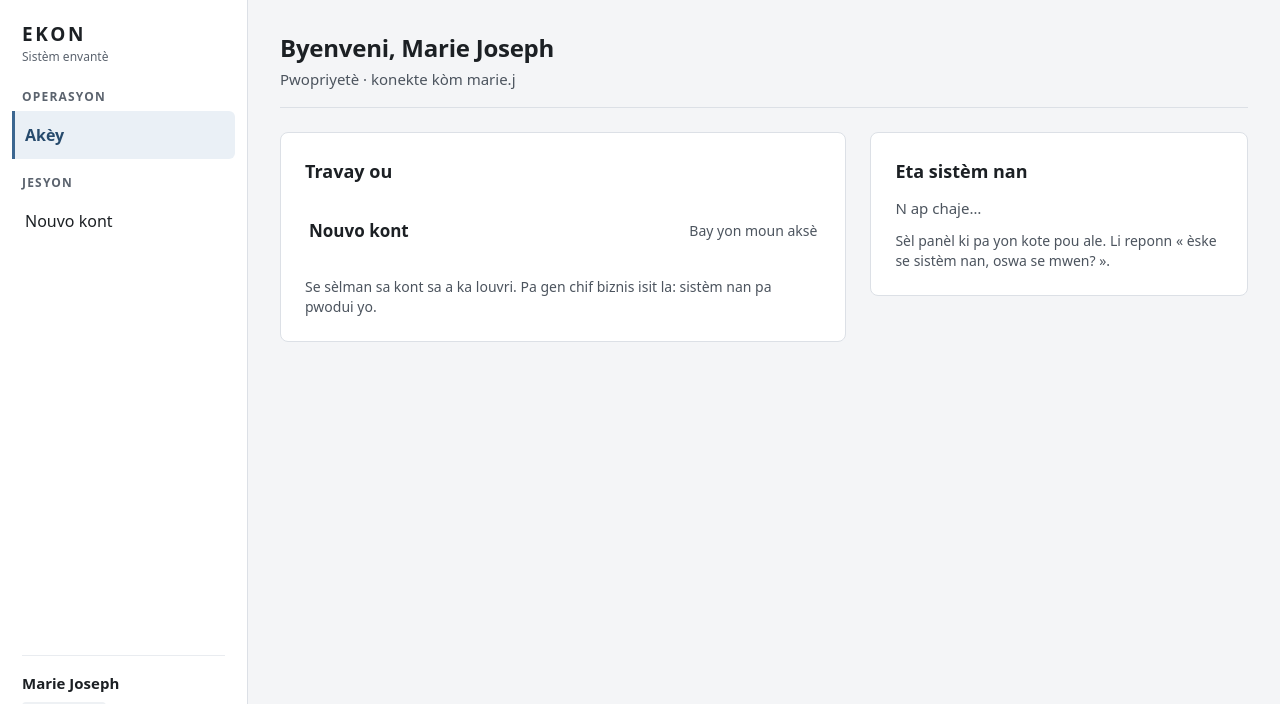
Test: the form › describes each field with the rule that applies to it
Check: the text "Marie Joseph" is shown, box [22,672,119,692]
Click the button "Nouvo kont" at (124, 220), box [12,196,235,244]
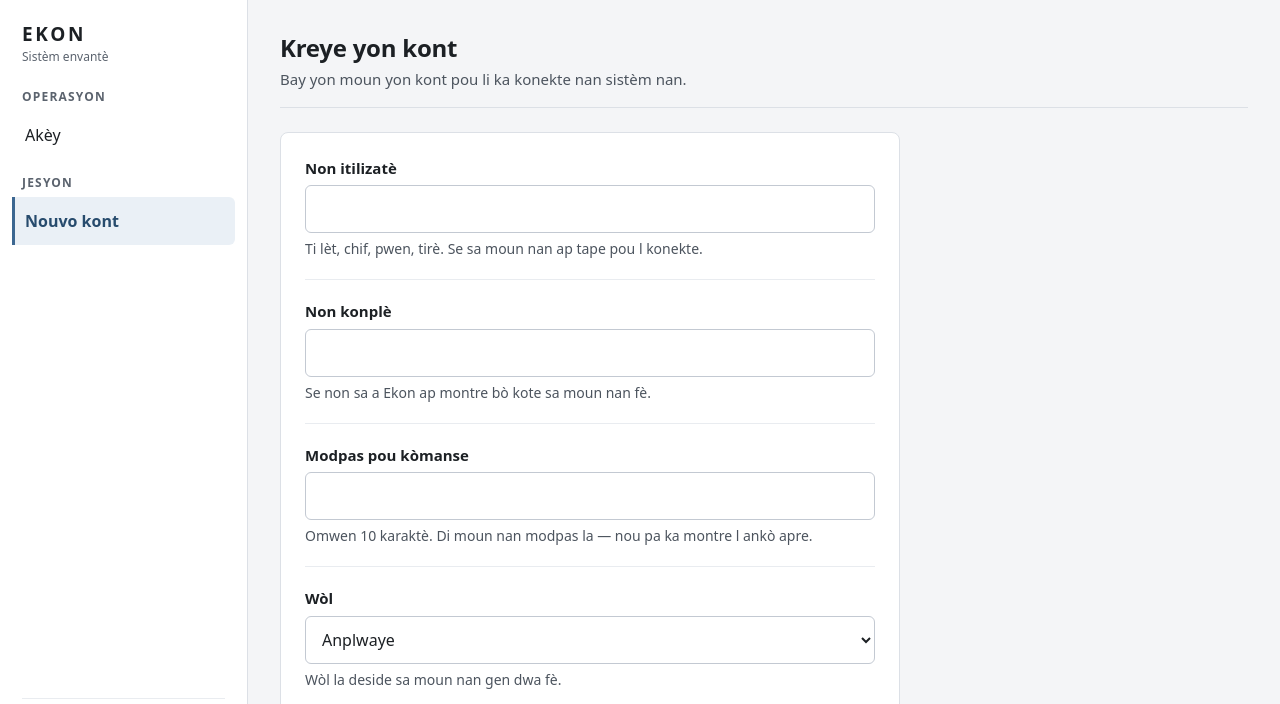
Check: the heading "Kreye yon kont" is shown, box [280,31,457,64]
Check: the text "Ti lèt, chif, pwen, tirè. Se sa moun nan ap tape pou l konekte." is shown, box [305,239,703,258]
Check: the text "Se non sa a Ekon ap montre bò kote sa moun nan fè." is shown, box [305,382,651,402]
